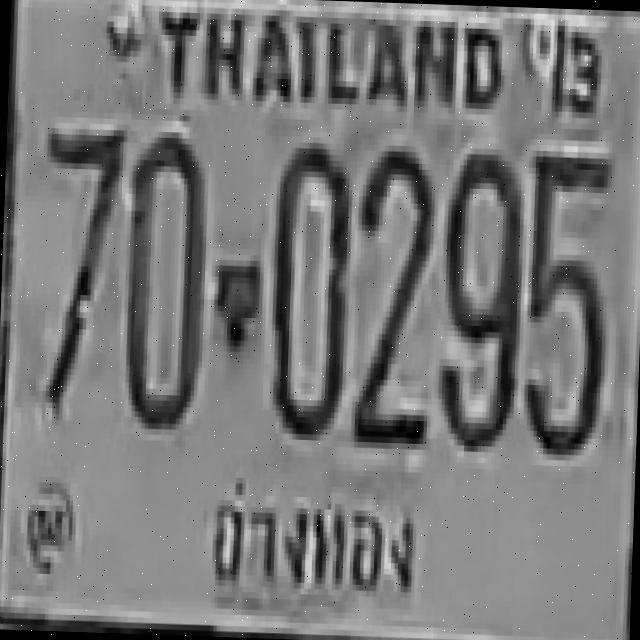0: (120, 125, 206, 424), (264, 136, 350, 434)
2: (350, 147, 433, 441)
5: (518, 144, 608, 450)
7: (34, 122, 124, 410)
9: (433, 147, 522, 447)
AngThong: (191, 454, 433, 624)
